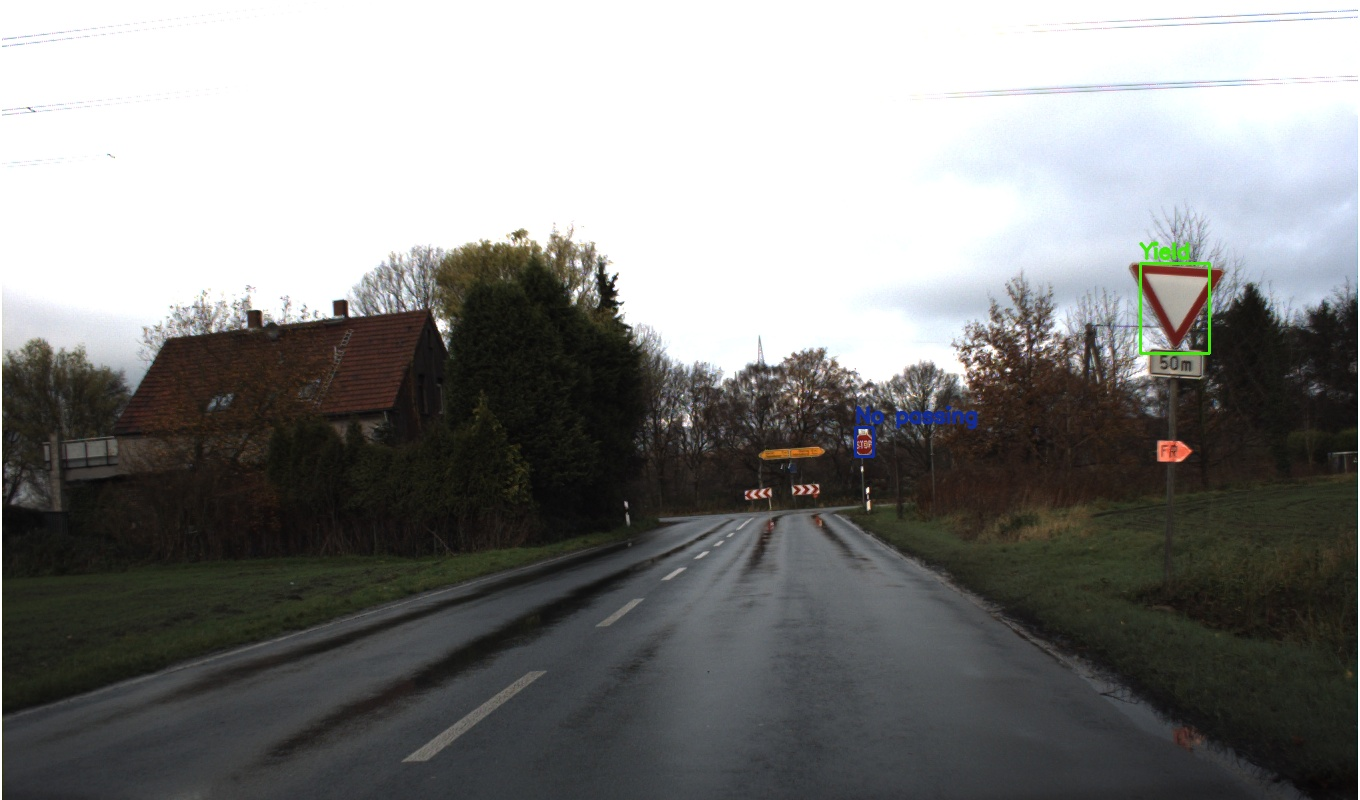Road work: (1237, 334, 1295, 387), (1079, 388, 1119, 423)
